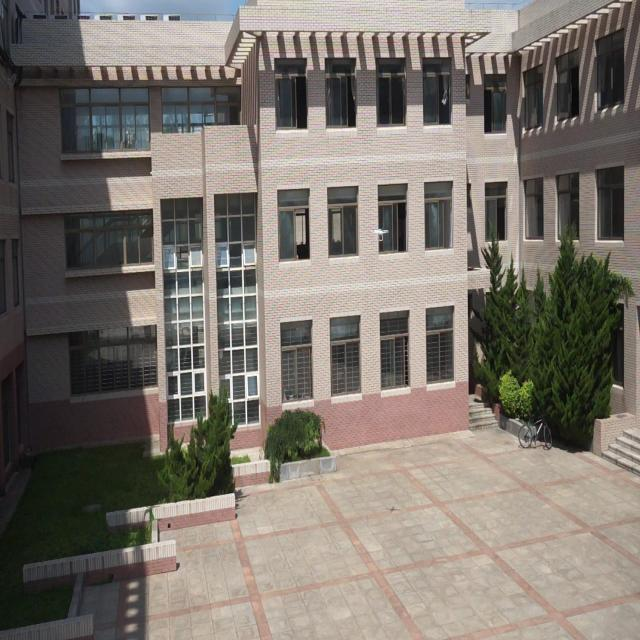drone: (372, 224, 388, 243)
